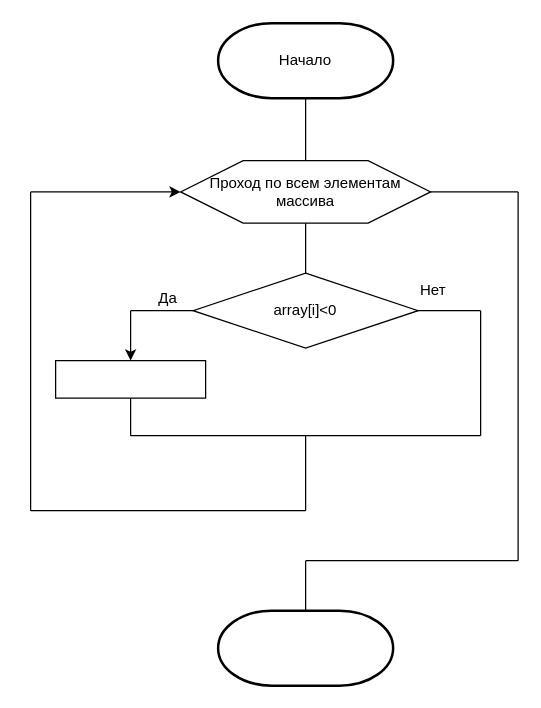
This 541x708 diagram has some shape labels left out. The centre of each missing label's shape, as x and y in pixels:
"array[i]=array[i]*(-1)" belongs at [130,378].
"Конец" belongs at [305,647].
